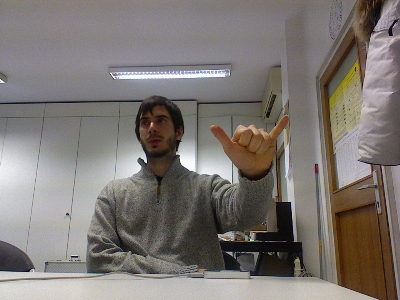六六六: (208, 113, 289, 176)
